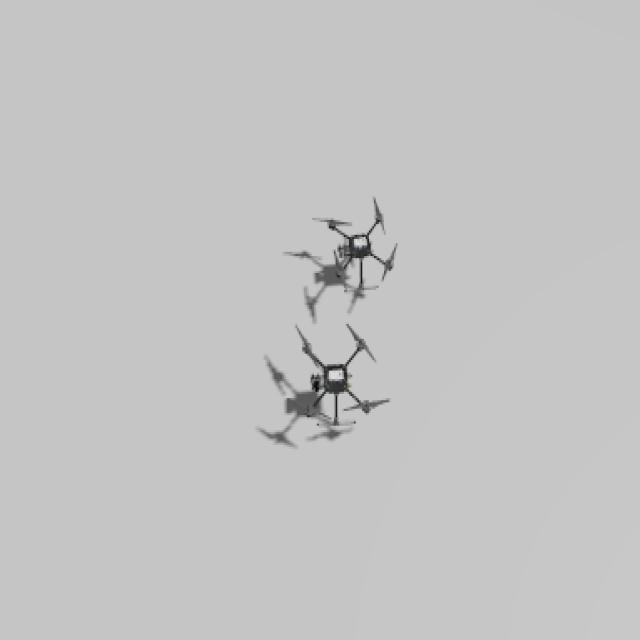drone: (289, 319, 392, 434), (310, 192, 399, 293)
